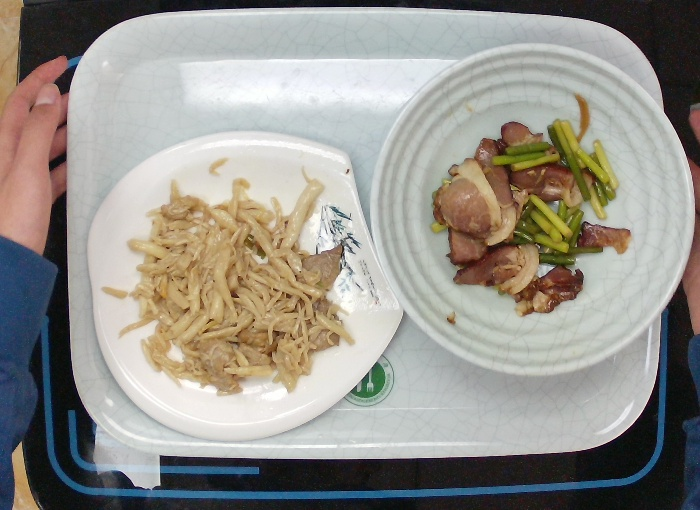JYsf-Da_Tang_Wan: (368, 44, 695, 375)
JYsf-Mian_Pan: (83, 125, 399, 436)
